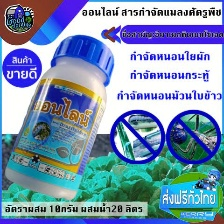insecticide: (3, 28, 117, 200)
